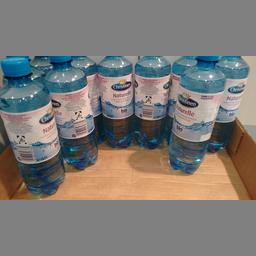water: (0, 54, 64, 196), (164, 55, 226, 175), (44, 55, 98, 170), (132, 54, 170, 148), (98, 54, 132, 148)
